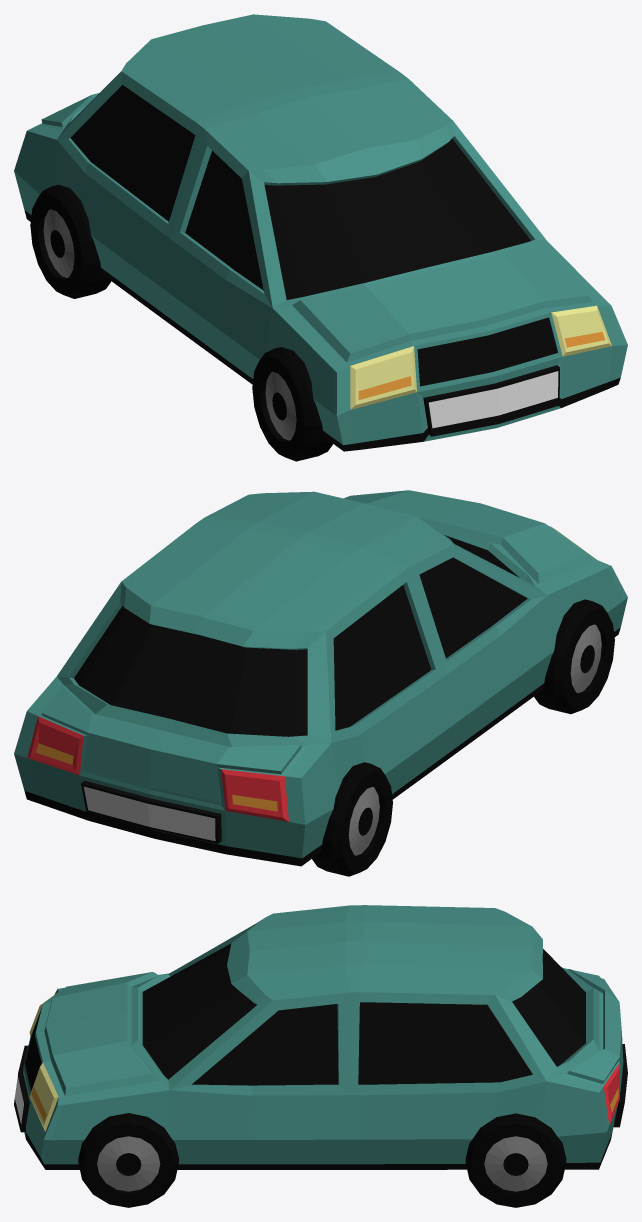
Rendered from car02.fbx.
The picture shows the model from 3 angles, top to bottom: view 1: azimuth 30°, elevation 25°; view 2: azimuth 150°, elevation 25°; view 3: azimuth 270°, elevation 25°; orthographic projection. The views are drawn at different scales.
Visible parts, largest first — view 1: Auto.001, Reifen.006, Reifen.007; view 2: Auto.001, Reifen.006, Reifen.007; view 3: Auto.001, Reifen.004, Reifen.005.
Part boxes in pixels (bbox=[...]): Auto.001: bbox=[14, 14, 627, 451]; Reifen.006: bbox=[252, 347, 332, 461]; Reifen.007: bbox=[30, 184, 111, 298]; Auto.001: bbox=[14, 490, 627, 866]; Reifen.006: bbox=[534, 599, 614, 714]; Reifen.007: bbox=[312, 762, 392, 876]; Auto.001: bbox=[14, 905, 627, 1169]; Reifen.004: bbox=[78, 1113, 178, 1207]; Reifen.005: bbox=[465, 1113, 566, 1207].
Size of the model in its own units: 226 by 162 by 444.
